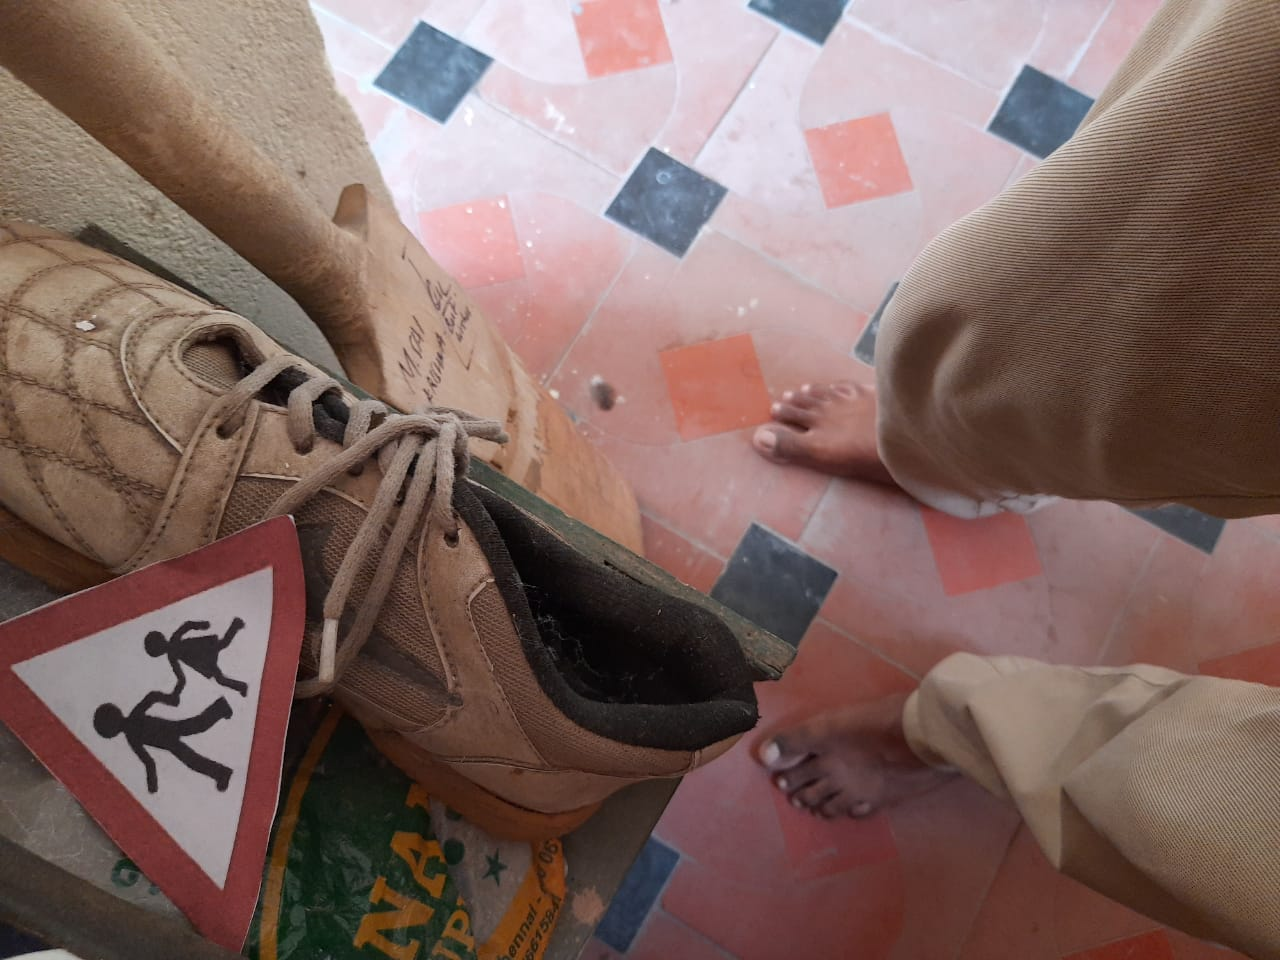SCHOOL ZONE: (1, 451, 323, 958)
